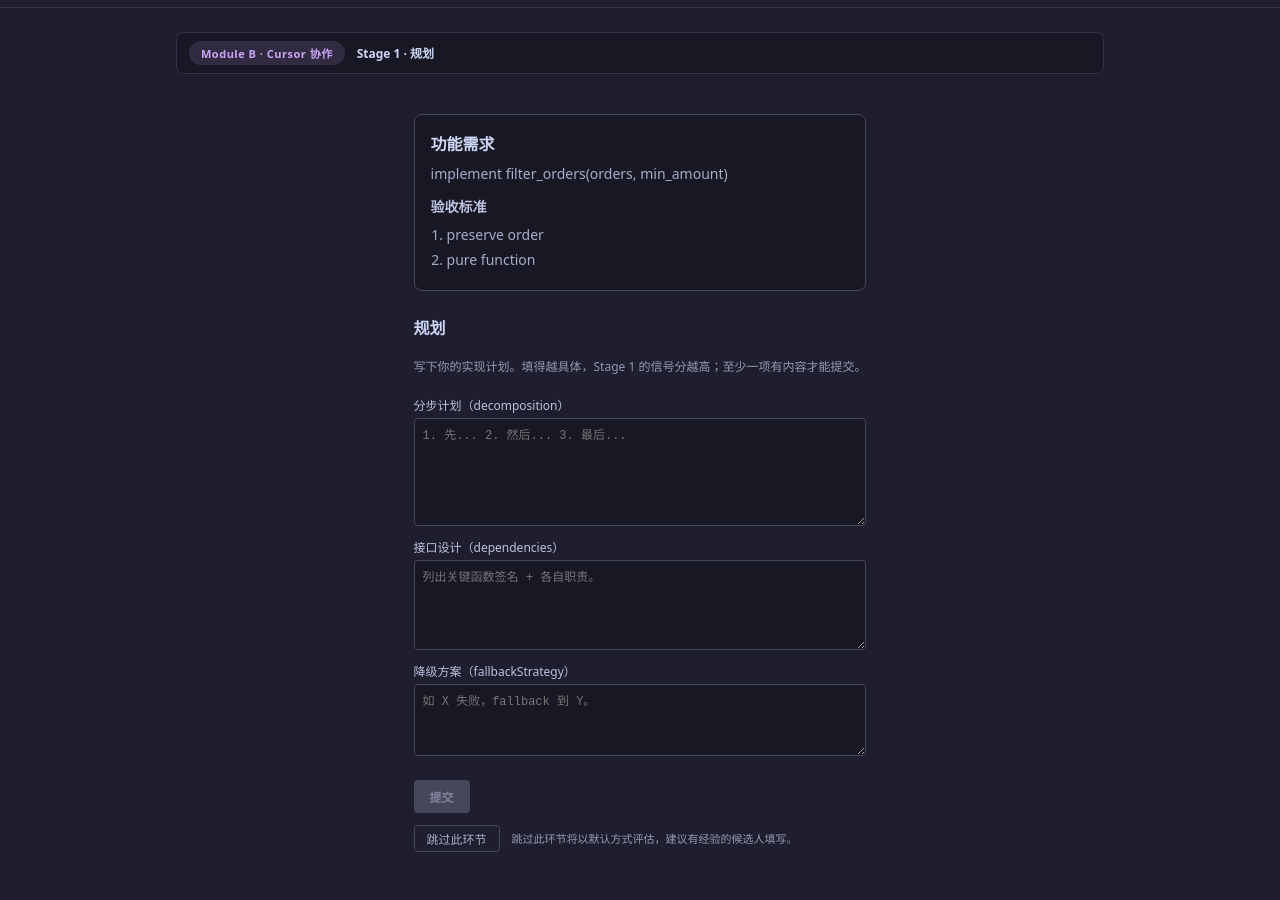
Test: ModuleBPage · Stage 1 (planning) › skipping planning still advances to Stage 2 with skipped=true
This screenshot has width=1280, height=900.
(page scrolled)
What coordinates should you click on to do the following:
click the button with test id "mb-planning-skip"
I would click on:
 (456, 838)
Its box is x1=414 y1=825 x2=500 y2=852.
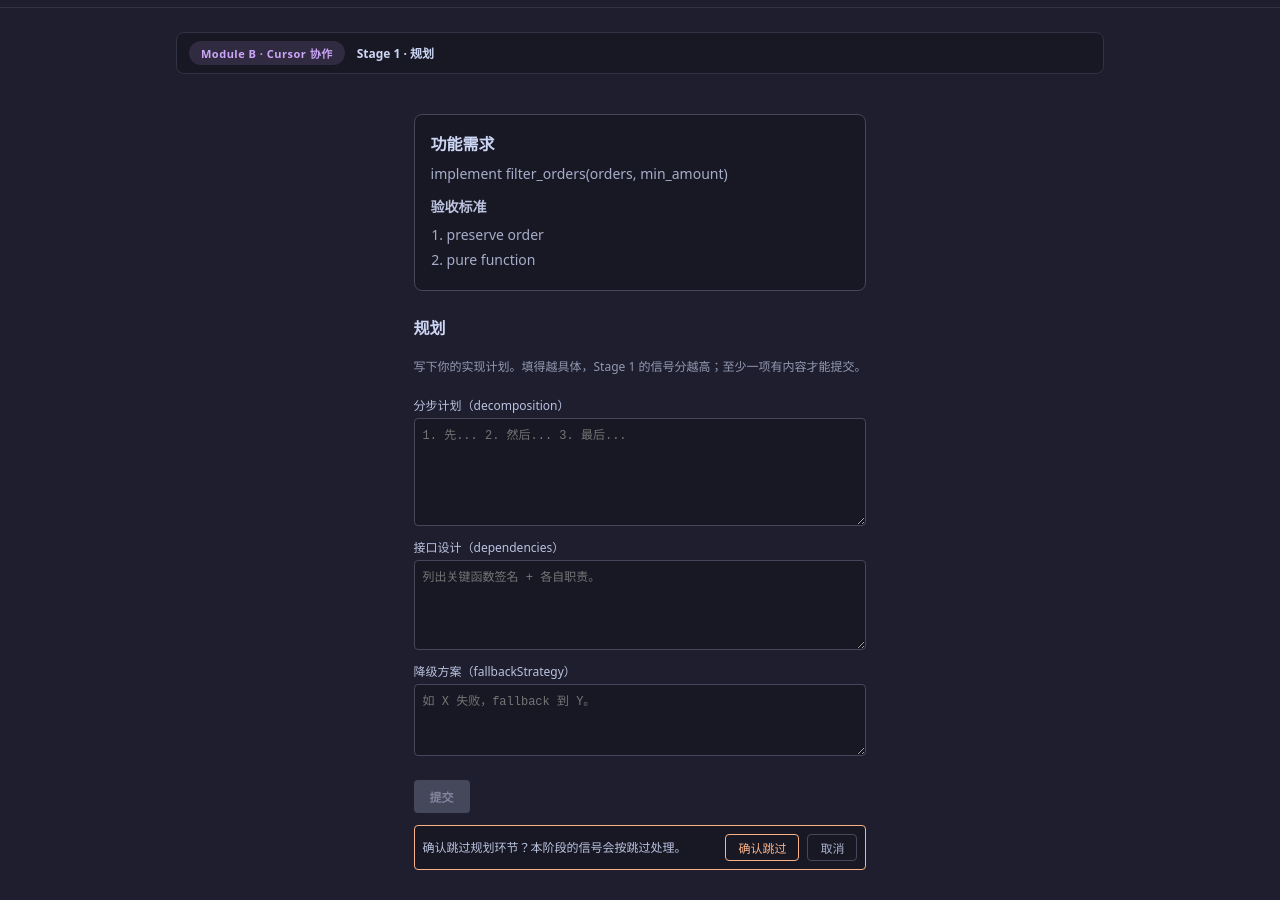
What coordinates should you click on to do the following:
click the button with test id "mb-planning-skip-confirm"
I would click on:
 (762, 847)
Its box is x1=725 y1=834 x2=799 y2=861.
(page scrolled)
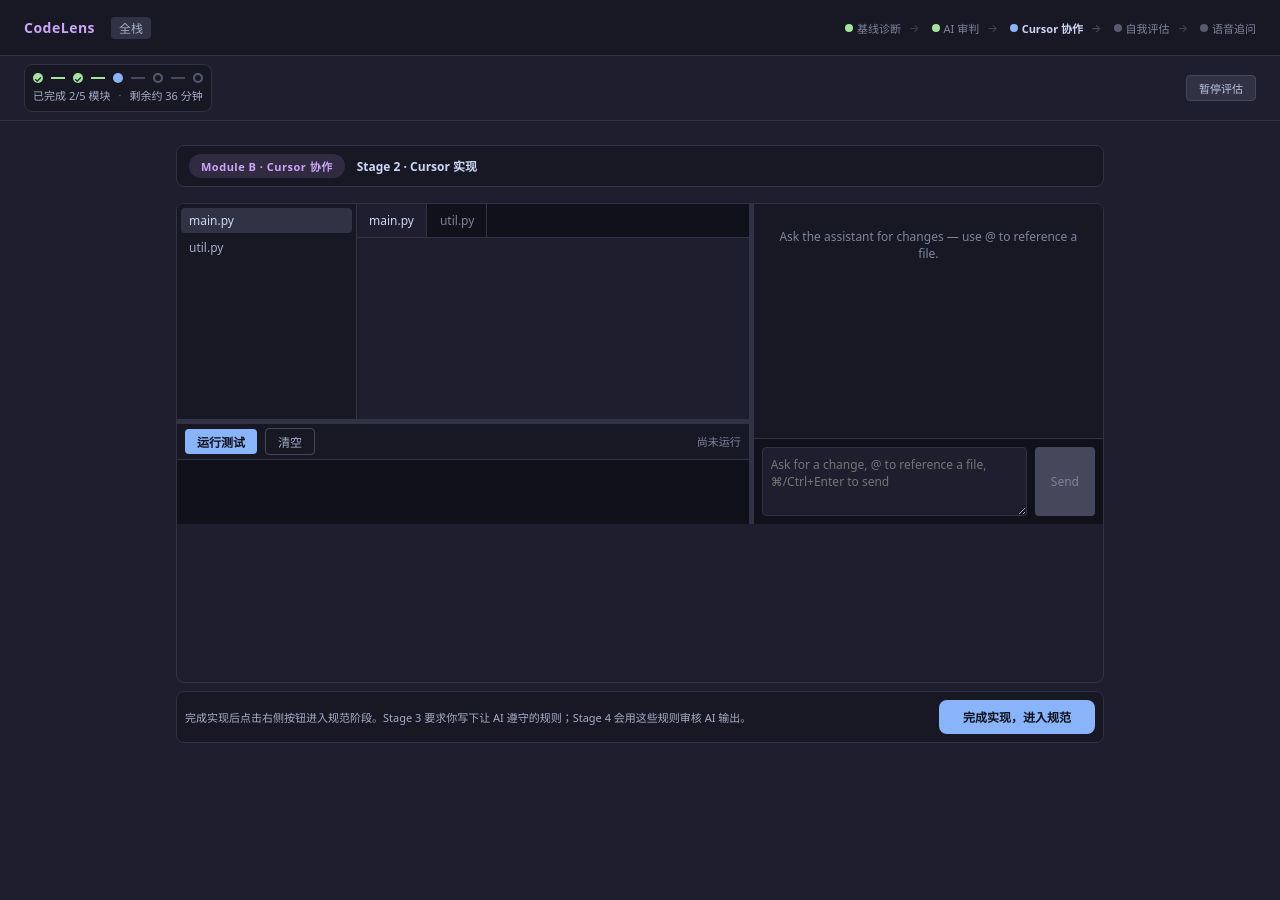
Expected: the text with test id "mb-stage-label" shows "Stage 2", x1=357 y1=158 x2=477 y2=175
